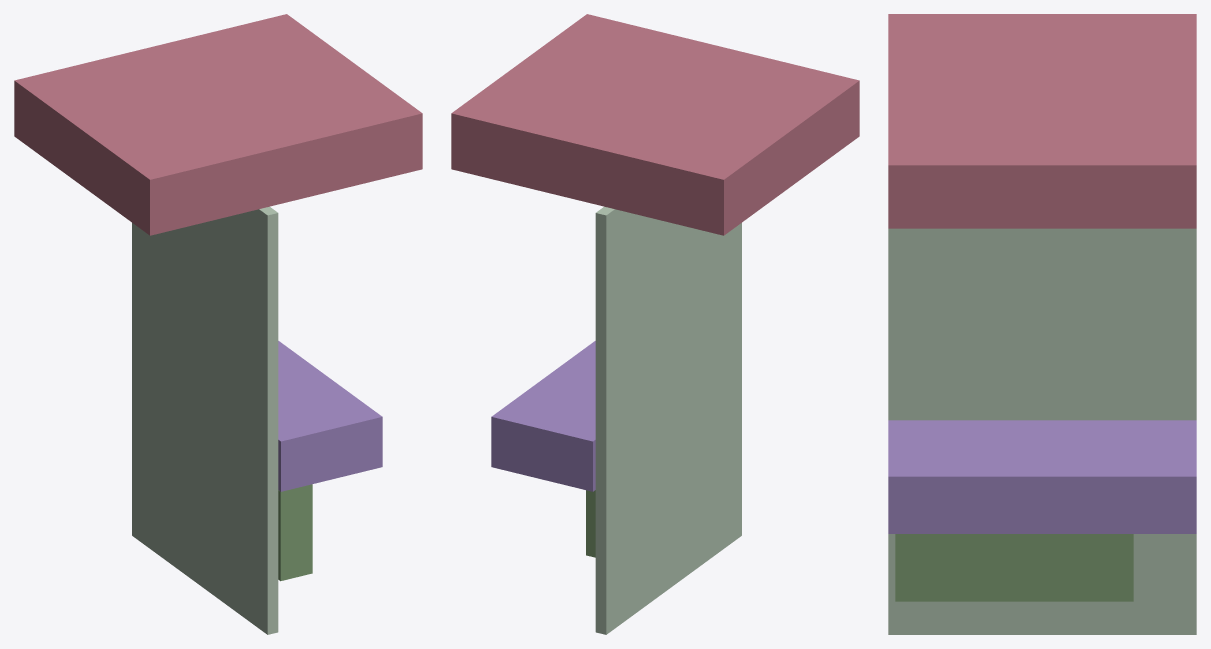
Rendered from 239536_pred.glb.
3 views of the same model, side by side, from view 1: azimuth 30°, elevation 25°; view 2: azimuth 150°, elevation 25°; view 3: azimuth 270°, elevation 25° (orthographic). The views are drawn at different scales.
Visible parts, largest first — view 1: world; view 2: world; view 3: world.
Boxes of the visible parts, box(x1,y1,x2,y2) form: world: box(14, 14, 422, 634); world: box(451, 14, 859, 634); world: box(888, 14, 1196, 634).
Bounding box in the file's own units: 5.1 × 8.65 × 4.4.
